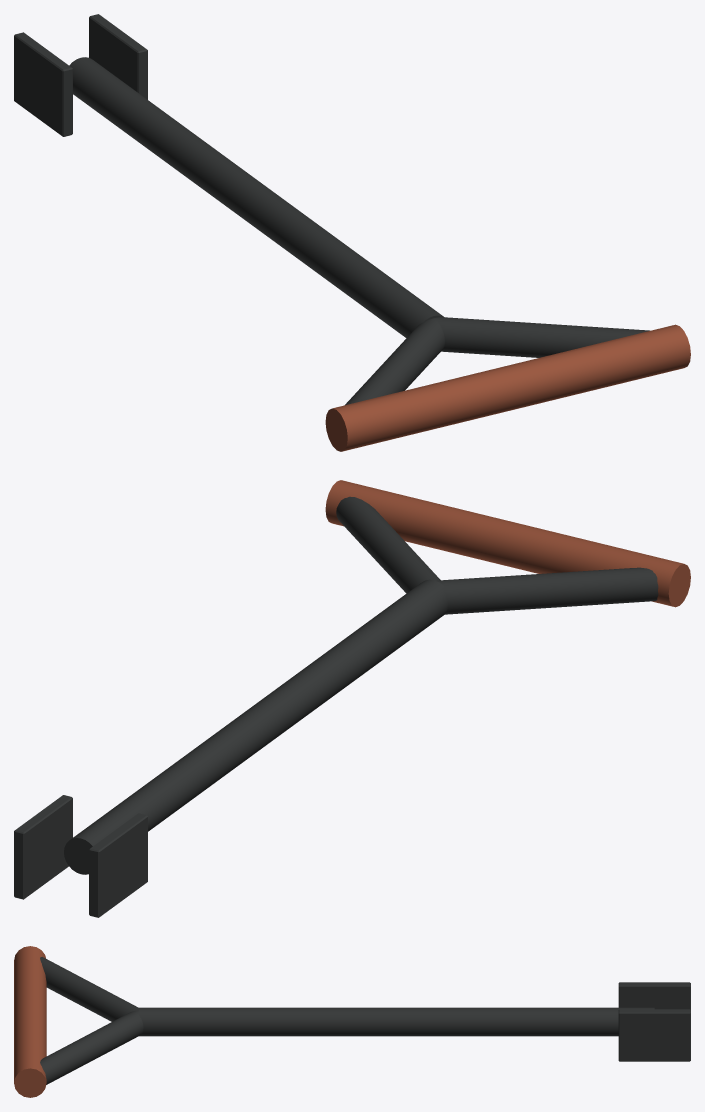
File: hand_pallet_truck_drawbar.glb
The picture shows the model from 3 angles, top to bottom: view 1: azimuth 30°, elevation 25°; view 2: azimuth 150°, elevation 25°; view 3: azimuth 270°, elevation 25°; orthographic projection. The views are drawn at different scales.
Parts seen in each view (by area): view 1: hand_pallet_truck_drawbar.001; view 2: hand_pallet_truck_drawbar.001; view 3: hand_pallet_truck_drawbar.001.
Part boxes in pixels (box(x1,y1,x2,y2)): hand_pallet_truck_drawbar.001: box(14, 14, 690, 451); hand_pallet_truck_drawbar.001: box(14, 480, 690, 917); hand_pallet_truck_drawbar.001: box(14, 946, 690, 1097).
Size of the model in its own units: 0.32 by 0.06 by 0.748.
